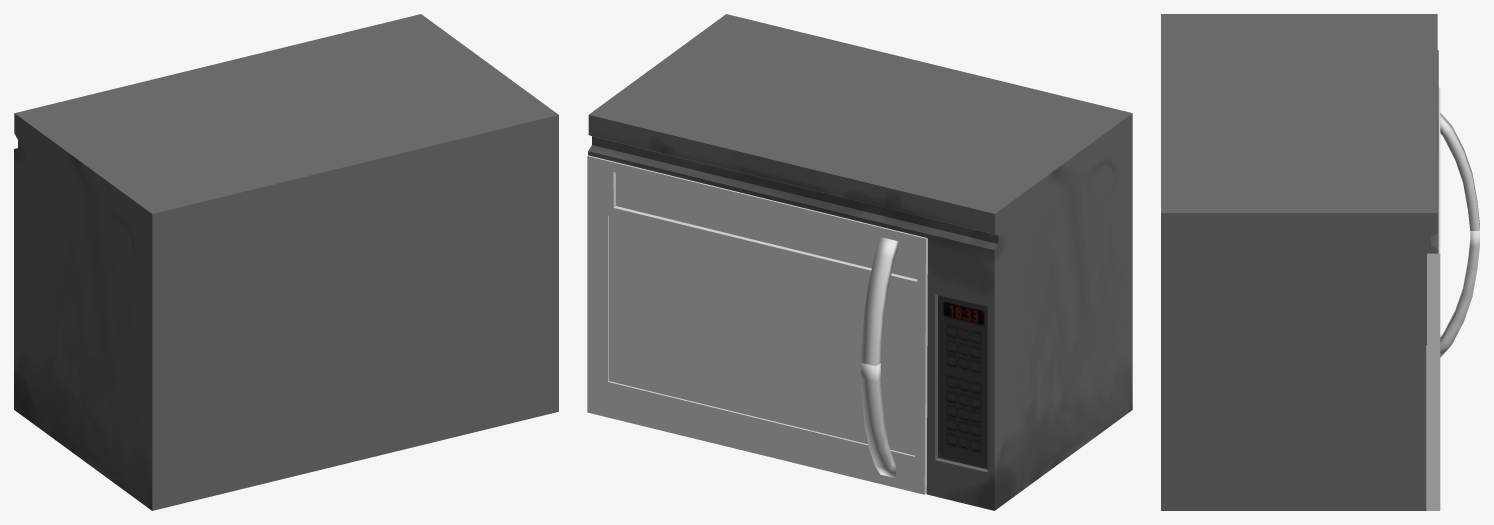
The model's file is MicrowaveTex.fbx.
3 views of the same model, side by side, from view 1: azimuth 30°, elevation 25°; view 2: azimuth 150°, elevation 25°; view 3: azimuth 270°, elevation 25° (orthographic).
Visible parts, largest first — view 1: Cube.005; view 2: Cube.005, Cube.008, Cube.007, Cube.006; view 3: Cube.005, Cube.007, Cube.006.
Boxes of the visible parts, x1,y1,x2,y2 form: Cube.005: (14,14,558,510); Cube.005: (588,14,1132,510); Cube.008: (609,216,914,455); Cube.007: (587,155,927,494); Cube.006: (861,237,898,478); Cube.005: (1161,14,1438,510); Cube.007: (1427,87,1440,510); Cube.006: (1440,113,1479,357).
Size of the model in its own units: 188 by 131 by 127.
